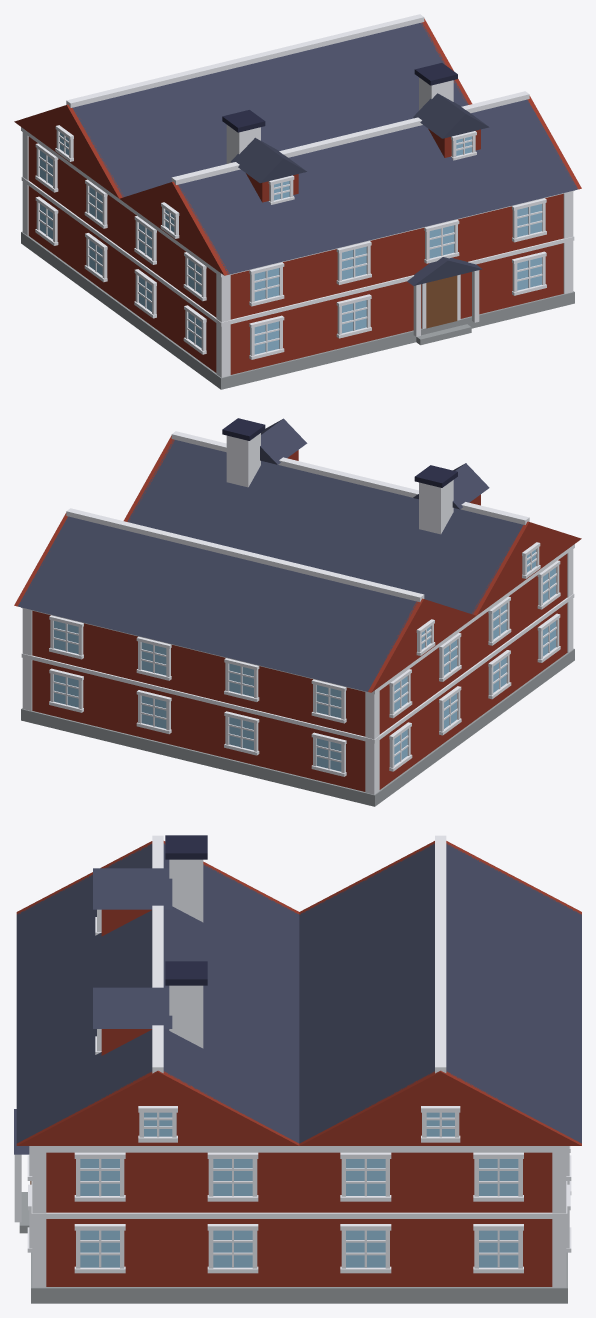
The model's file is house-2x2-2f-stuga-a.glb.
3 renders of one model, top to bottom at view 1: azimuth 30°, elevation 25°; view 2: azimuth 150°, elevation 25°; view 3: azimuth 270°, elevation 25°, orthographic. The views are drawn at different scales.
Visible parts, largest first — view 1: house-2x2-2f-stuga-a; view 2: house-2x2-2f-stuga-a; view 3: house-2x2-2f-stuga-a.
Part boxes in pixels (x1,y1,x2,y2): house-2x2-2f-stuga-a: (14, 14, 581, 389); house-2x2-2f-stuga-a: (14, 418, 581, 806); house-2x2-2f-stuga-a: (14, 835, 581, 1303).
Size of the model in its own units: 2 by 1.1 by 2.01.
1 material, 1 textured.
